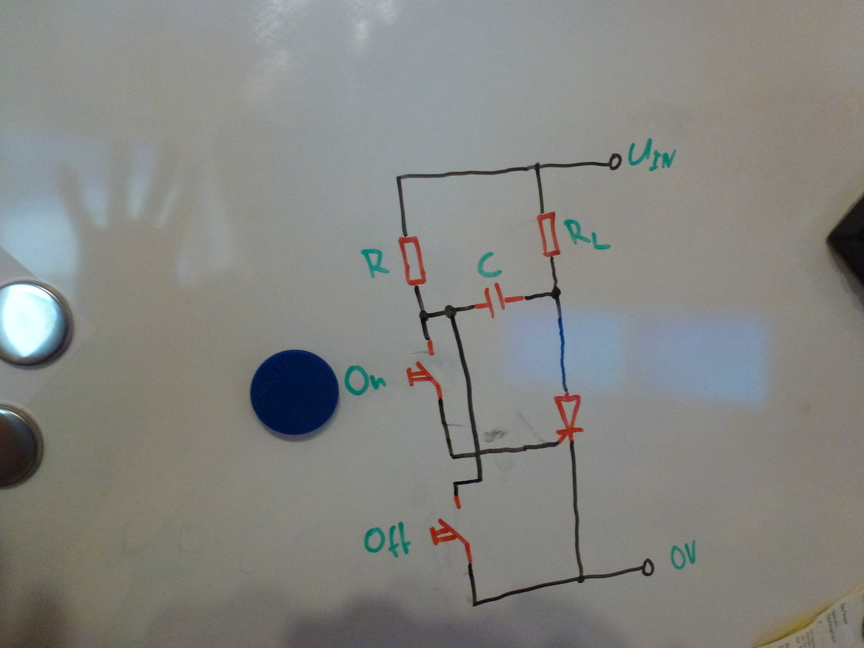capacitor.unpolarized: (479, 283, 513, 318)
crossover: (472, 447, 485, 460)
junction: (443, 304, 458, 320), (550, 285, 562, 302), (418, 309, 430, 323), (448, 451, 459, 463), (470, 597, 481, 609), (576, 573, 587, 585), (532, 160, 542, 172), (475, 475, 485, 485), (394, 173, 404, 183), (451, 479, 462, 488)
resistor: (398, 236, 427, 285), (537, 212, 561, 256)
switch: (430, 496, 473, 563), (406, 340, 443, 399)
terminal: (607, 152, 623, 172), (639, 558, 655, 577)
text: (363, 521, 412, 557), (627, 138, 676, 171), (563, 218, 611, 251), (344, 365, 387, 395), (361, 248, 389, 278), (670, 540, 697, 569), (477, 251, 502, 278)
thyristor: (554, 391, 584, 442)
